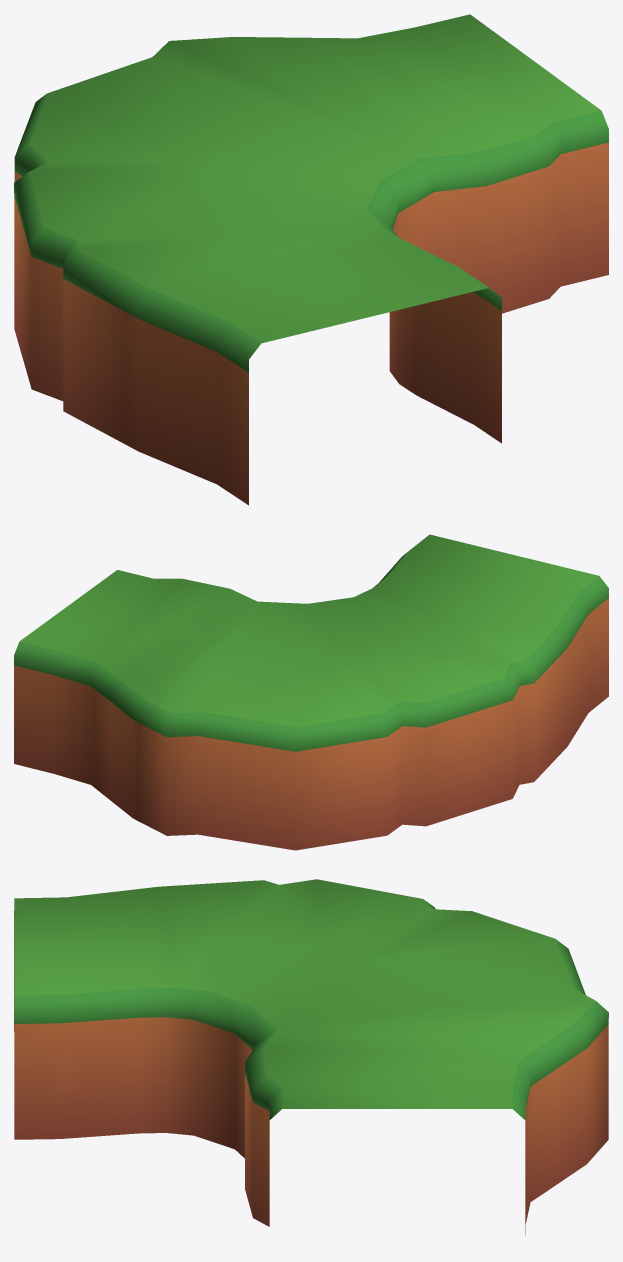
The model's file is L Path 02.FBX.
3 views of the same model, one above another, from view 1: azimuth 30°, elevation 25°; view 2: azimuth 150°, elevation 25°; view 3: azimuth 270°, elevation 25° (orthographic). The views are drawn at different scales.
Visible parts, largest first — view 1: L Path 02; view 2: L Path 02; view 3: L Path 02.
Part boxes in pixels (left/top/right/bottom): L Path 02: left=14, top=14, right=608, bottom=505; L Path 02: left=14, top=534, right=608, bottom=850; L Path 02: left=14, top=879, right=608, bottom=1234.
Bounding box in the file's own units: 1087 × 300 × 1165.
Materials: 1 (1 with a texture image).
